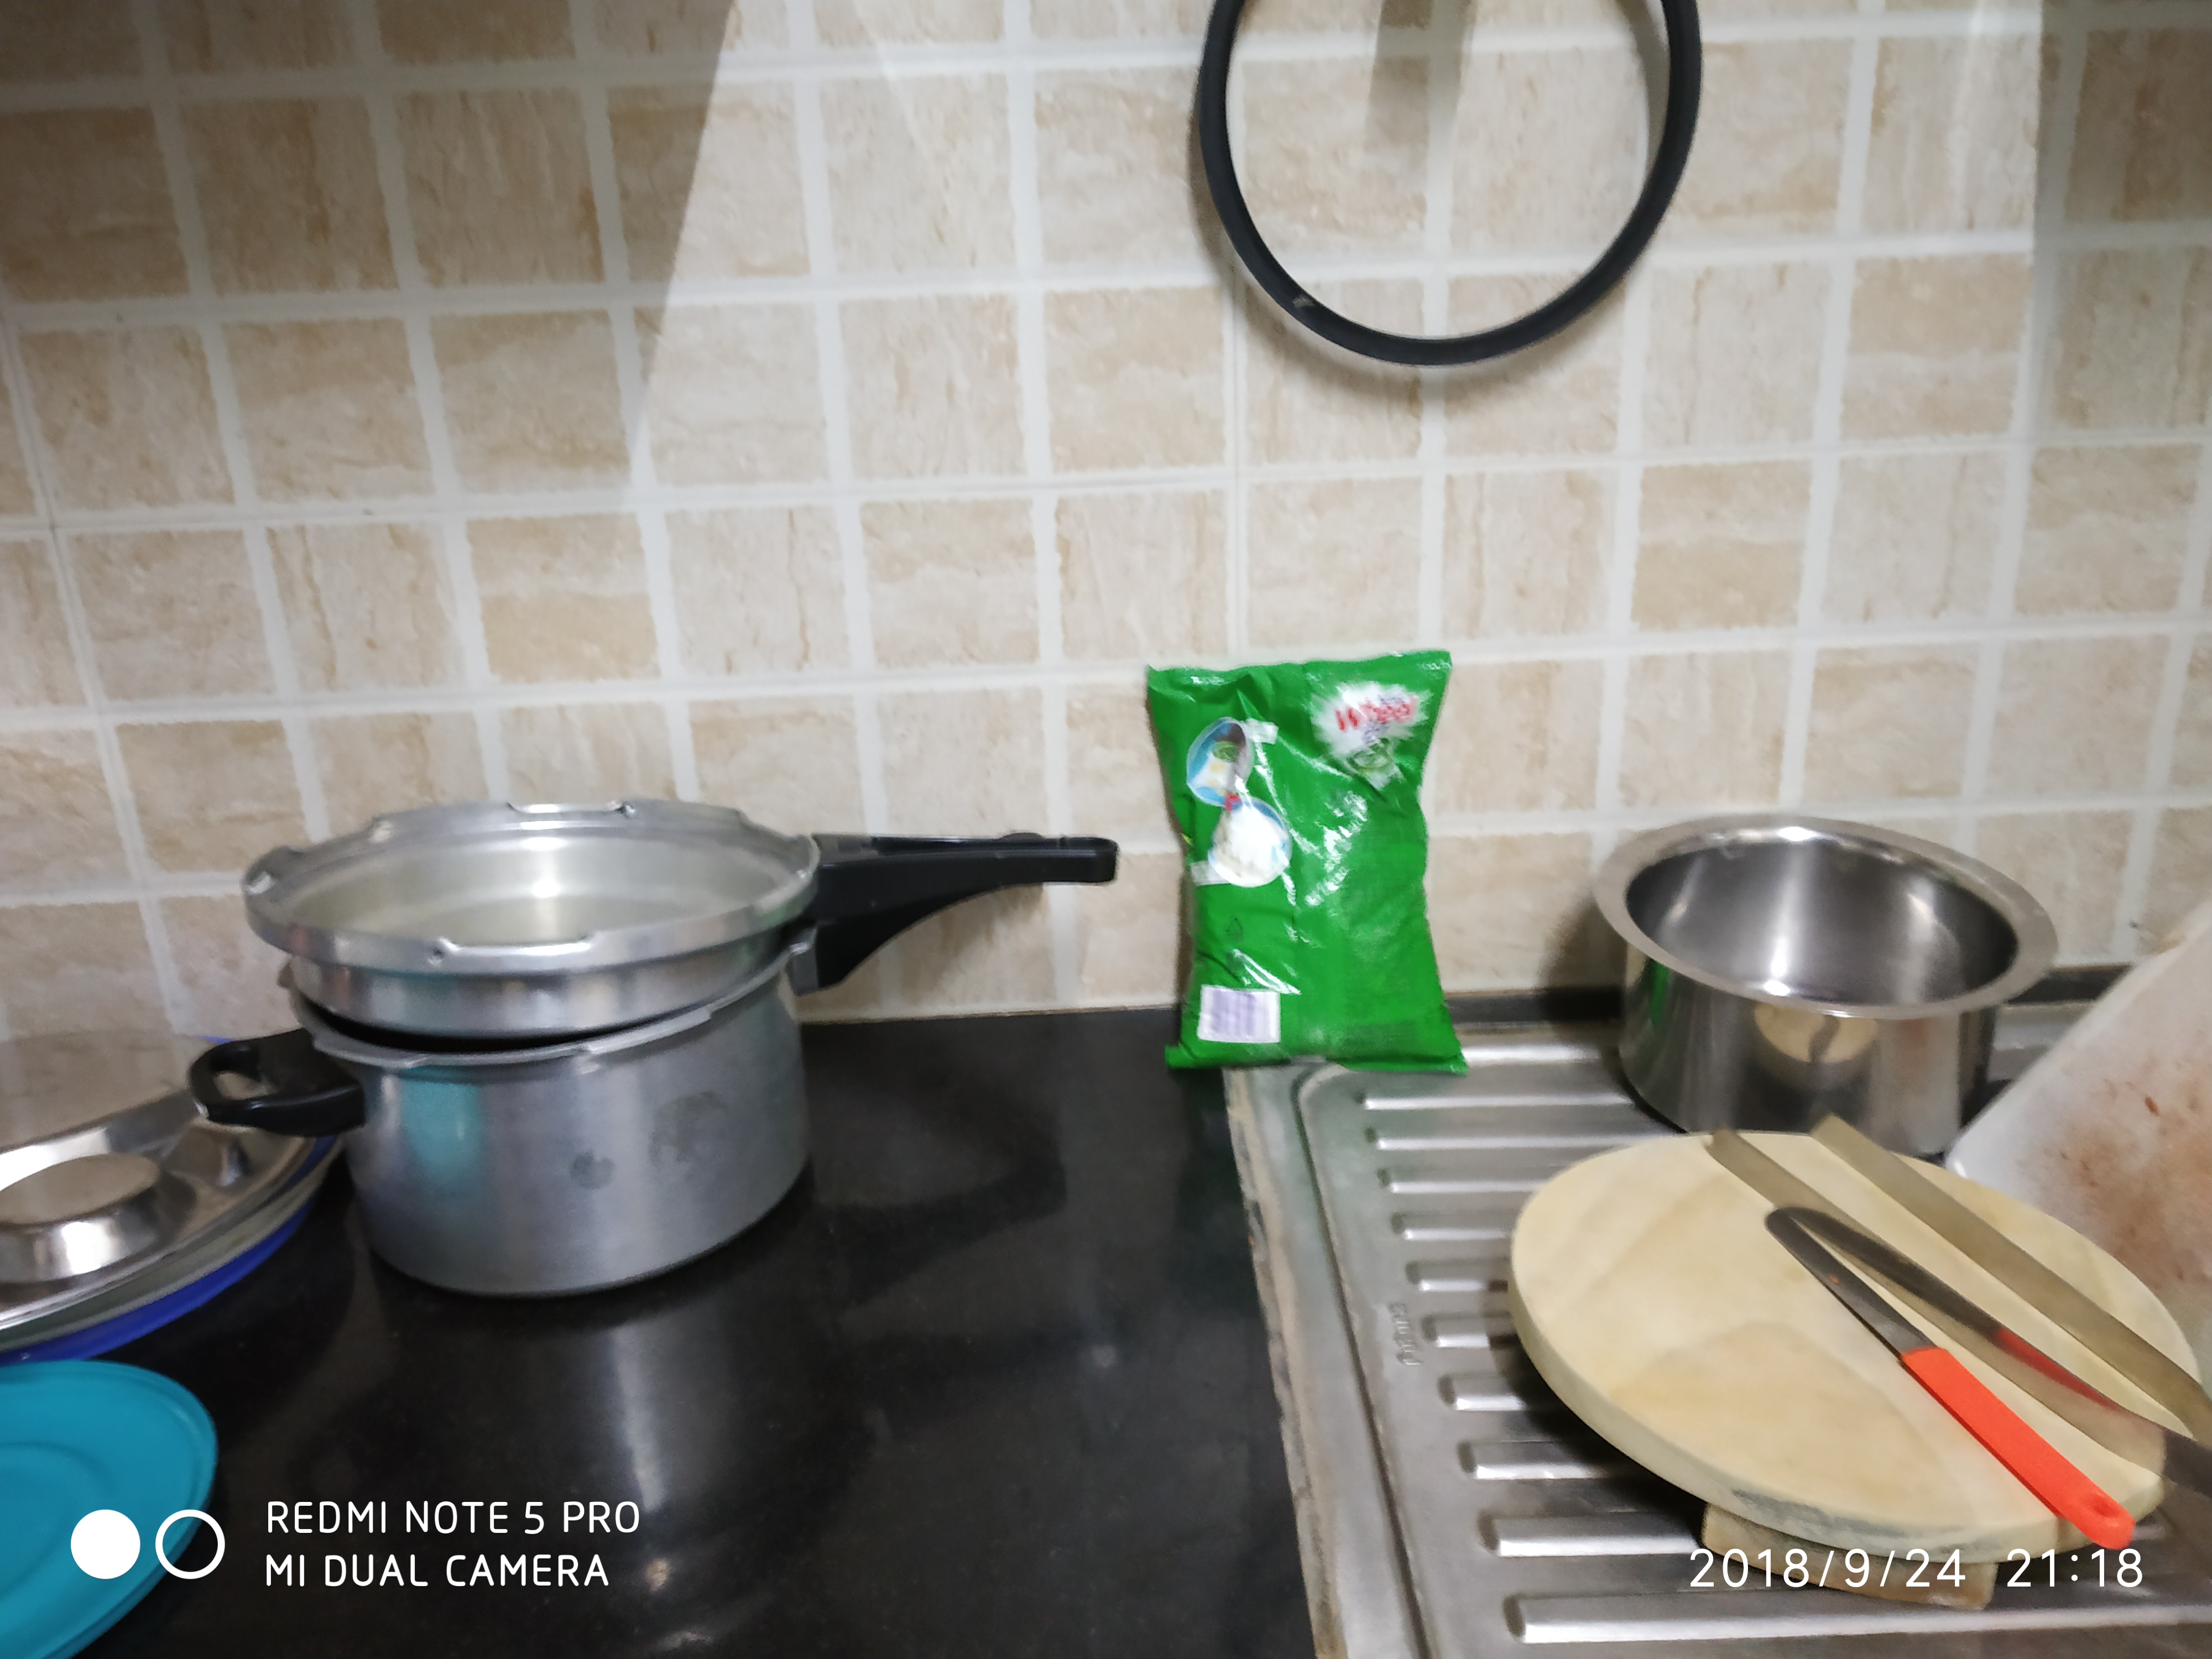detergent: (1134, 629, 1468, 1077)
